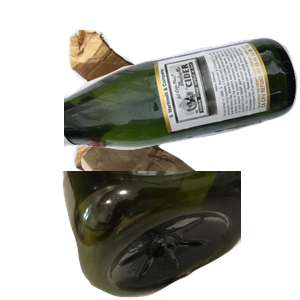cardboard: (66, 27, 242, 197)
glass: (64, 35, 300, 181)
plastic: (60, 171, 300, 300)
trash: (79, 123, 281, 300)
